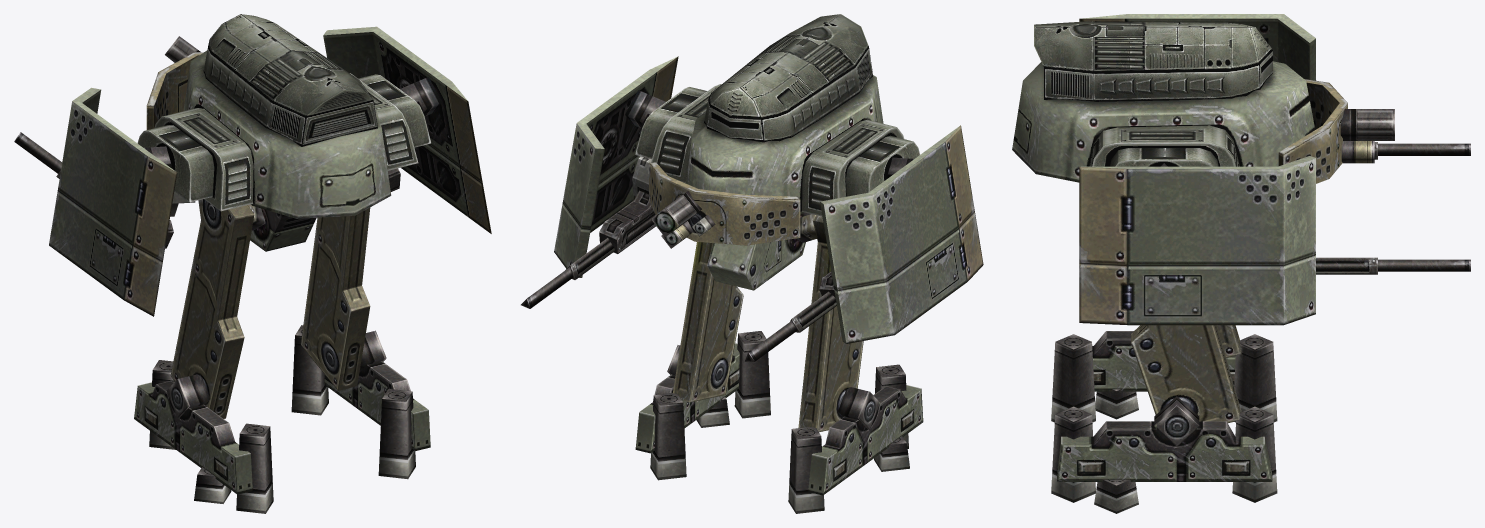
File: cameleerT1.FBX
The picture shows the model from 3 angles, left to right: view 1: azimuth 30°, elevation 25°; view 2: azimuth 150°, elevation 25°; view 3: azimuth 270°, elevation 25°; orthographic projection. The views are drawn at different scales.
Parts seen in each view (by area): view 1: Spine, Box03, L Foot, L Calf, R Calf, R Foot, Pelvis; view 2: Spine, Box03, L Foot, R Foot, R Calf, L Calf, Pelvis; view 3: Spine, Box03, R Foot, L Foot, R Calf, L Calf.
Boxes of the visible parts, x1=… form: Spine: x1=14, y1=26, x2=491, y2=316; Box03: x1=137, y1=14, x2=430, y2=211; L Foot: x1=134, y1=360, x2=273, y2=513; L Calf: x1=170, y1=199, x2=254, y2=418; R Calf: x1=301, y1=207, x2=370, y2=390; R Foot: x1=291, y1=325, x2=430, y2=479; Pelvis: x1=250, y1=208, x2=316, y2=251; Spine: x1=521, y1=56, x2=983, y2=361; Box03: x1=635, y1=14, x2=920, y2=216; L Foot: x1=788, y1=364, x2=923, y2=513; R Foot: x1=635, y1=331, x2=770, y2=480; R Calf: x1=673, y1=242, x2=743, y2=402; L Calf: x1=798, y1=215, x2=863, y2=432; Pelvis: x1=707, y1=212, x2=810, y2=290; Spine: x1=1012, y1=14, x2=1470, y2=325; Box03: x1=1034, y1=21, x2=1272, y2=166; R Foot: x1=1051, y1=396, x2=1277, y2=513; L Foot: x1=1051, y1=331, x2=1277, y2=422; R Calf: x1=1131, y1=325, x2=1241, y2=423; L Calf: x1=1216, y1=325, x2=1241, y2=357.
Bounding box in the file's own units: 3.38 × 3.79 × 3.67.
